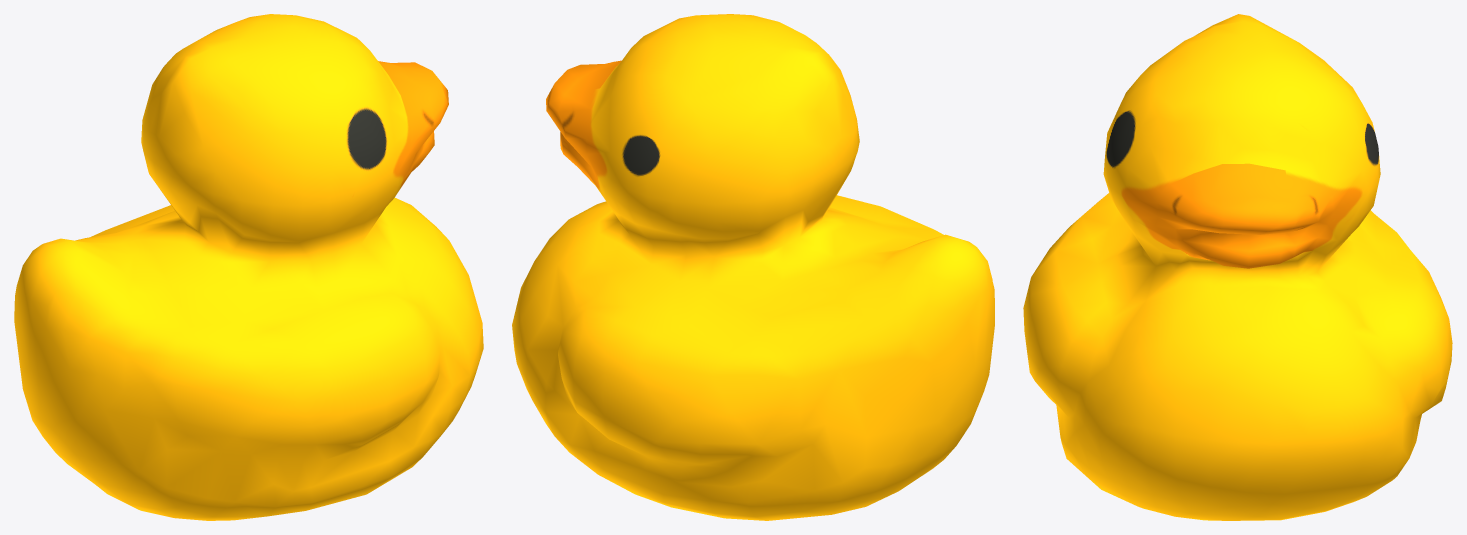
Rendered from yellow_duck.glb.
3 renders of one model, left to right at view 1: azimuth 30°, elevation 25°; view 2: azimuth 150°, elevation 25°; view 3: azimuth 270°, elevation 25°, orthographic.
Visible parts, largest first — view 1: Yellow_Duck; view 2: Yellow_Duck; view 3: Yellow_Duck.
Part boxes in pixels (box(x1,y1,x2,y2)): Yellow_Duck: box(14, 14, 483, 520); Yellow_Duck: box(512, 14, 994, 520); Yellow_Duck: box(1023, 14, 1452, 520).
Bounding box in the file's own units: 0.5848 × 0.5407 × 0.4939.
Materials: 1 (1 with a texture image).
